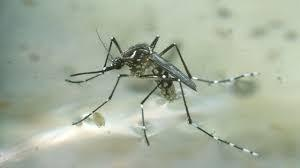insect: (63, 25, 265, 161)
